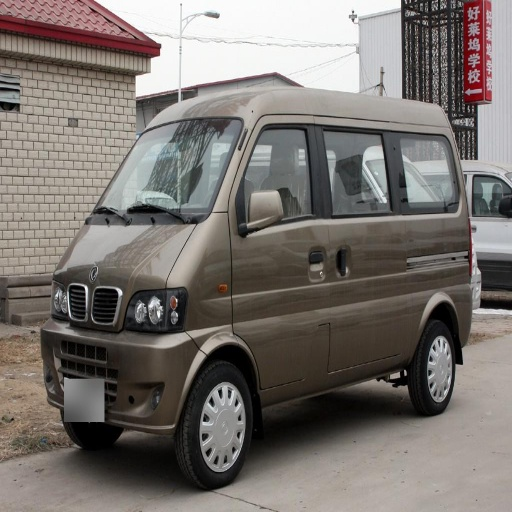front_bumper: (46, 284, 200, 427)
front_glass: (90, 120, 243, 223)
front_left_door: (230, 121, 343, 388)
trunk: (385, 225, 472, 355)
